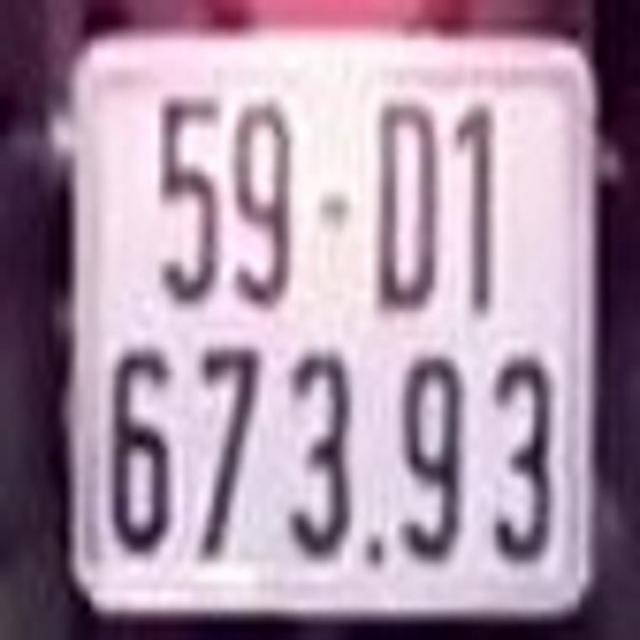1: (456, 103, 499, 307)
3: (289, 345, 348, 553), (492, 360, 552, 557)
5: (151, 97, 221, 297)
6: (110, 346, 174, 553)
7: (189, 350, 259, 564)
9: (395, 367, 466, 563), (231, 102, 291, 308)
D: (370, 102, 443, 310)
